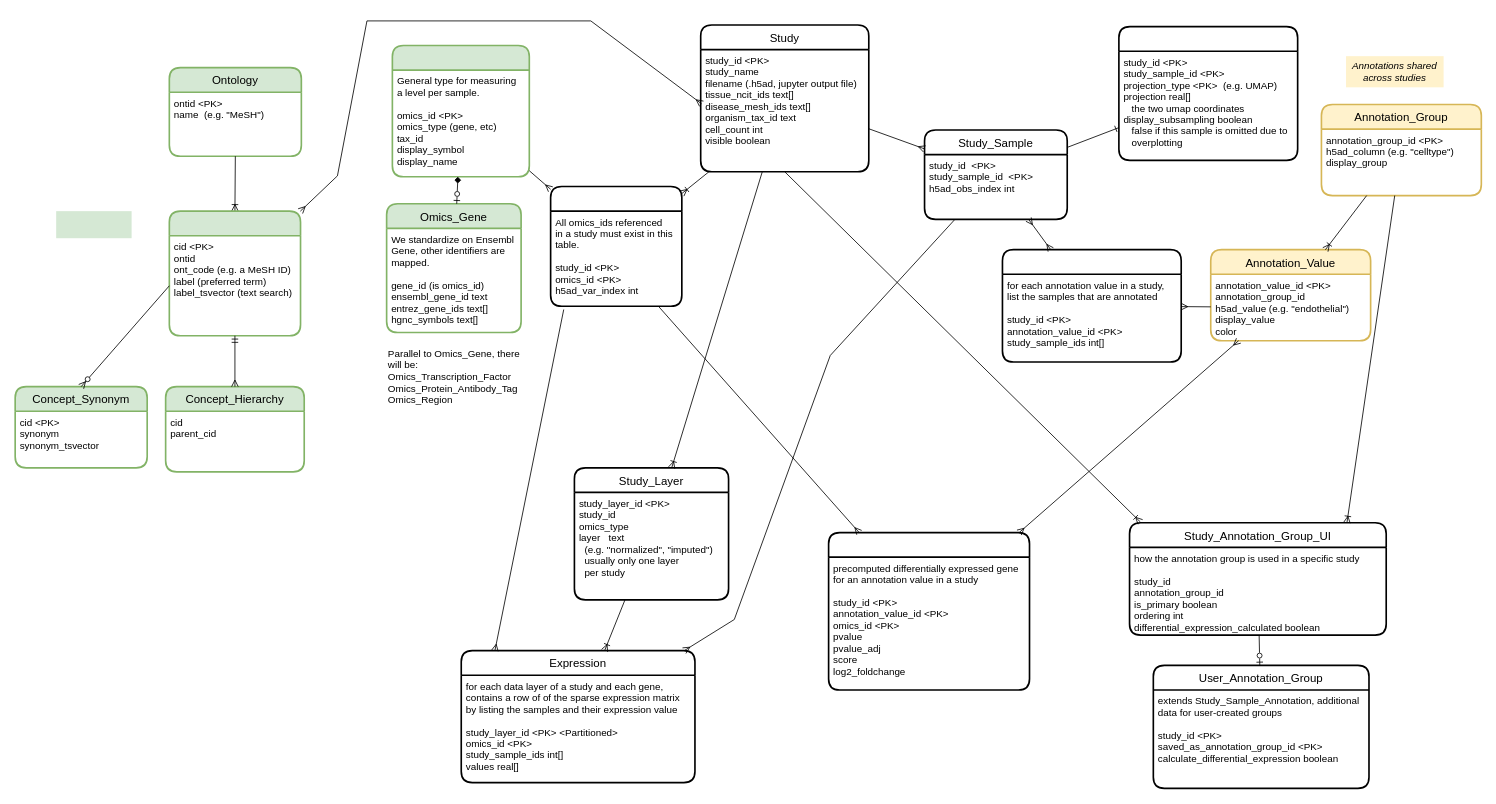
Image size: 1496x804. Some labels were removed from this diagram. Here are the shapes that lost their labels. From the top down, the box of each, then its label:
(391, 44, 530, 177): Omics_Base
(1118, 25, 1298, 161): Study_Sample_Projection
(56, 211, 131, 238): "Master Data"
(549, 185, 682, 307): Study_Omics
(168, 210, 301, 336): Concept
(1001, 248, 1182, 362): Study_Sample_Annotation
(827, 531, 1030, 690): Differential_Expression
